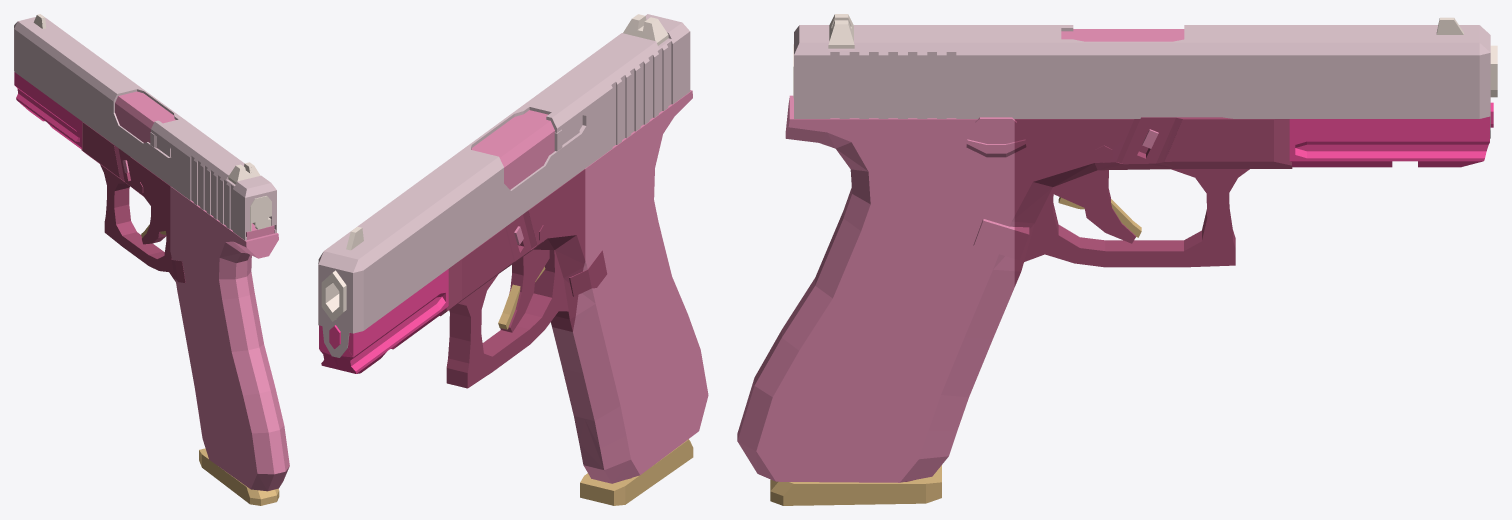
The model's file is Pistol_Glock17.obj.
3 views of the same model, side by side, from view 1: azimuth 30°, elevation 25°; view 2: azimuth 150°, elevation 25°; view 3: azimuth 270°, elevation 25° (orthographic). The views are drawn at different scales.
Visible parts, largest first — view 1: Body, Slide, Mag, Accent, Hardware, Panel; view 2: Body, Slide, Mag, Accent, Hardware, Panel, Grip; view 3: Body, Slide, Mag, Accent, Hardware, Panel.
Boxes of the visible parts, x1=… form: Body: x1=115, y1=91, x2=289, y2=491; Slide: x1=14, y1=17, x2=276, y2=240; Mag: x1=81, y1=121, x2=175, y2=281; Accent: x1=14, y1=72, x2=81, y2=149; Hardware: x1=141, y1=224, x2=279, y2=505; Panel: x1=33, y1=14, x2=271, y2=231; Body: x1=471, y1=90, x2=708, y2=483; Slide: x1=318, y1=14, x2=690, y2=357; Mag: x1=439, y1=169, x2=585, y2=388; Accent: x1=319, y1=269, x2=448, y2=373; Hardware: x1=498, y1=266, x2=693, y2=505; Panel: x1=321, y1=14, x2=668, y2=321; Grip: x1=569, y1=250, x2=631, y2=478; Body: x1=737, y1=29, x2=1184, y2=482; Slide: x1=794, y1=25, x2=1490, y2=138; Mag: x1=1014, y1=117, x2=1292, y2=286; Accent: x1=1289, y1=102, x2=1493, y2=167; Hardware: x1=770, y1=197, x2=1141, y2=505; Panel: x1=793, y1=14, x2=1497, y2=98.
Bounding box in the file's own units: 0.1211 × 1.04 × 1.5.
